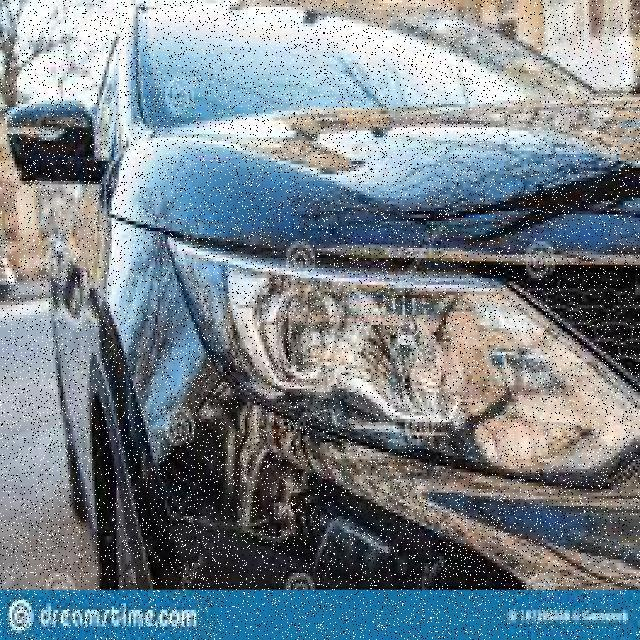front-bumper-dent: (136, 388, 526, 594)
